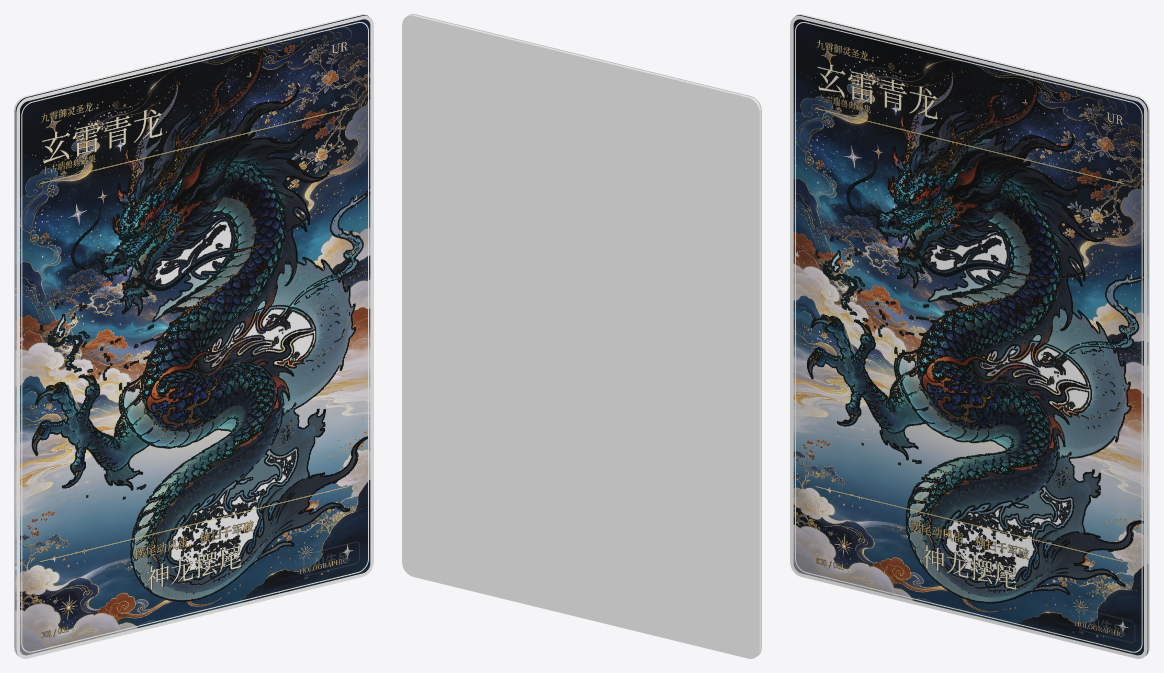
The model's file is card-full.glb.
3 views of the same model, side by side, from view 1: azimuth 30°, elevation 25°; view 2: azimuth 150°, elevation 25°; view 3: azimuth 330°, elevation 25° (orthographic).
Visible parts, largest first — view 1: 主体平面 · 完整视差合成, 外圈 · 全息压边, 内圈 · 古金细边; view 2: 主体平面 · 完整视差合成, 外圈 · 全息压边; view 3: 主体平面 · 完整视差合成, 外圈 · 全息压边, 内圈 · 古金细边.
Boxes of the visible parts, left/top/right/bottom form: 主体平面 · 完整视差合成: left=14, top=14, right=370, bottom=655; 外圈 · 全息压边: left=16, top=15, right=373, bottom=658; 内圈 · 古金细边: left=21, top=22, right=368, bottom=652; 主体平面 · 完整视差合成: left=402, top=14, right=760, bottom=658; 外圈 · 全息压边: left=409, top=14, right=761, bottom=655; 主体平面 · 完整视差合成: left=793, top=14, right=1149, bottom=655; 外圈 · 全息压边: left=790, top=15, right=1147, bottom=658; 内圈 · 古金细边: left=795, top=22, right=1142, bottom=652.
Bounding box in the file's own units: 6.3 × 9.45 × 0.071.
Materials: 4 (1 with a texture image).
